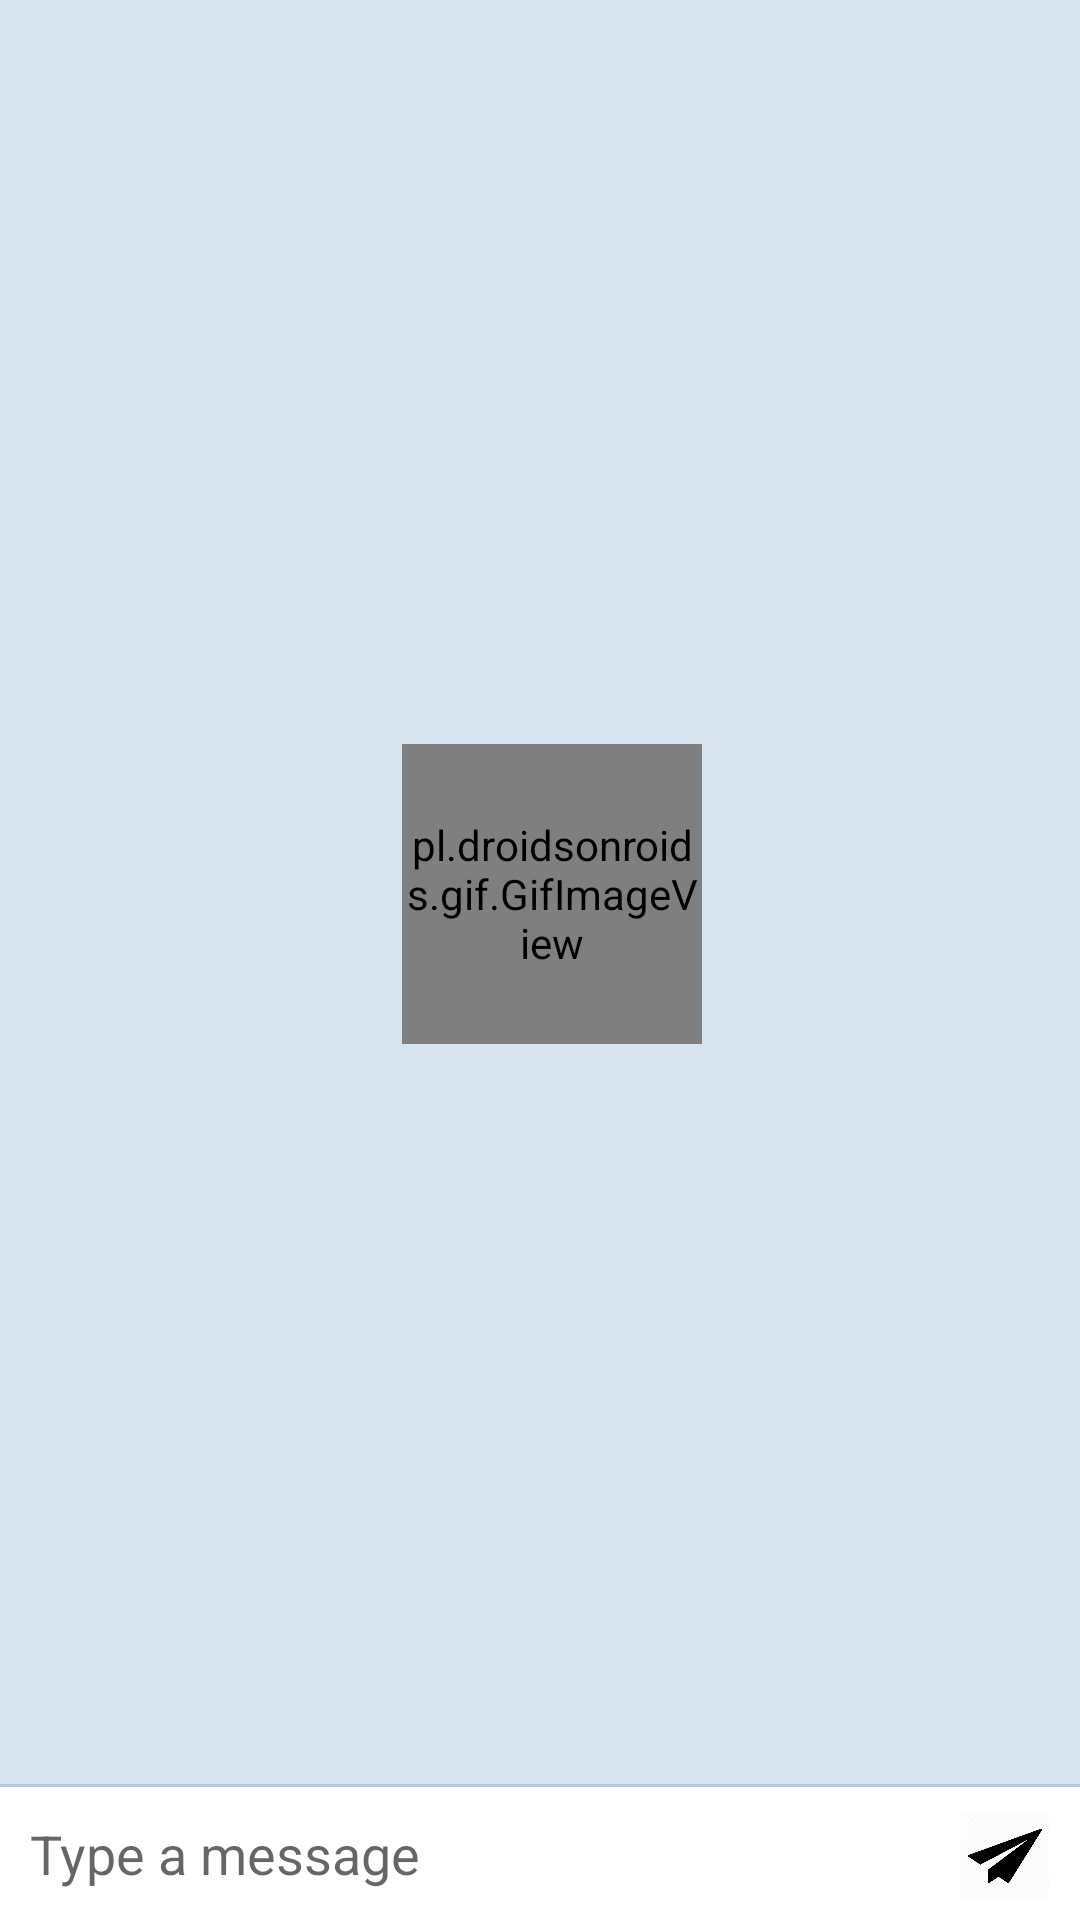

Icon bounding boxes for this 1080×1920 phone screenshot, format Rect(x1, y1, x2, y2):
plane: Rect(968, 1829, 1042, 1883)
